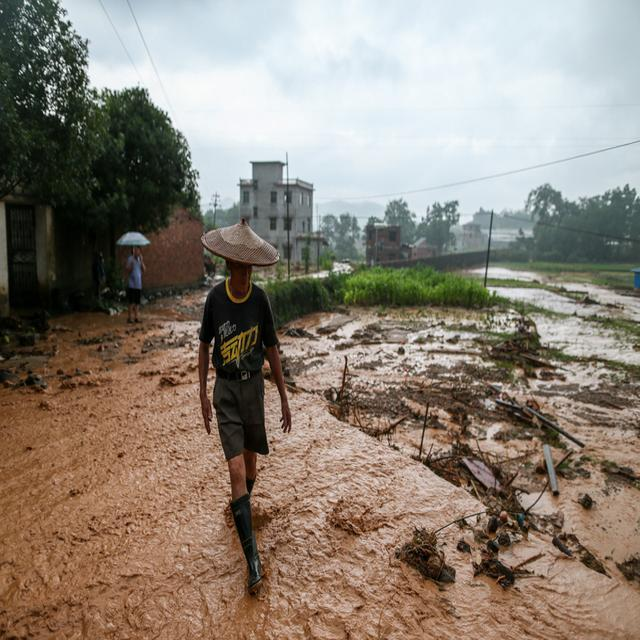Person-RiskLevel1: (189, 216, 329, 600), (109, 225, 168, 329)
